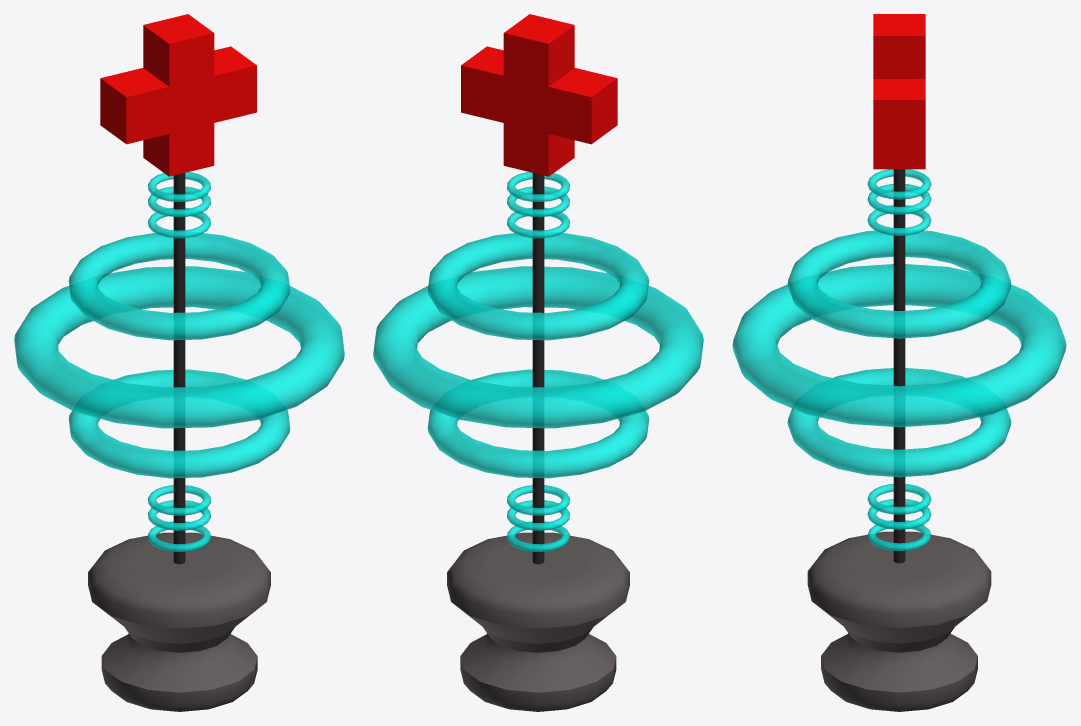
Rendered from health.glb.
3 views of the same model, side by side, from view 1: azimuth 30°, elevation 25°; view 2: azimuth 150°, elevation 25°; view 3: azimuth 270°, elevation 25° (orthographic).
Parts seen in each view (by area): view 1: Object_5, Object_3, Object_2, Object_6, Object_4; view 2: Object_5, Object_3, Object_2, Object_6, Object_4; view 3: Object_5, Object_3, Object_2, Object_6, Object_4.
Boxes of the visible parts, x1,y1,x2,y2 form: Object_5: [14, 172, 344, 551]; Object_3: [88, 532, 270, 711]; Object_2: [100, 14, 256, 176]; Object_6: [95, 540, 264, 643]; Object_4: [173, 173, 185, 564]; Object_5: [373, 172, 703, 551]; Object_3: [447, 532, 629, 711]; Object_2: [461, 14, 617, 176]; Object_6: [453, 540, 622, 643]; Object_4: [532, 173, 544, 564]; Object_5: [732, 169, 1066, 550]; Object_3: [807, 531, 991, 711]; Object_2: [873, 14, 925, 169]; Object_6: [814, 539, 984, 643]; Object_4: [893, 169, 905, 563].
Size of the model in its own units: 10.01 by 21.7 by 10.01.
